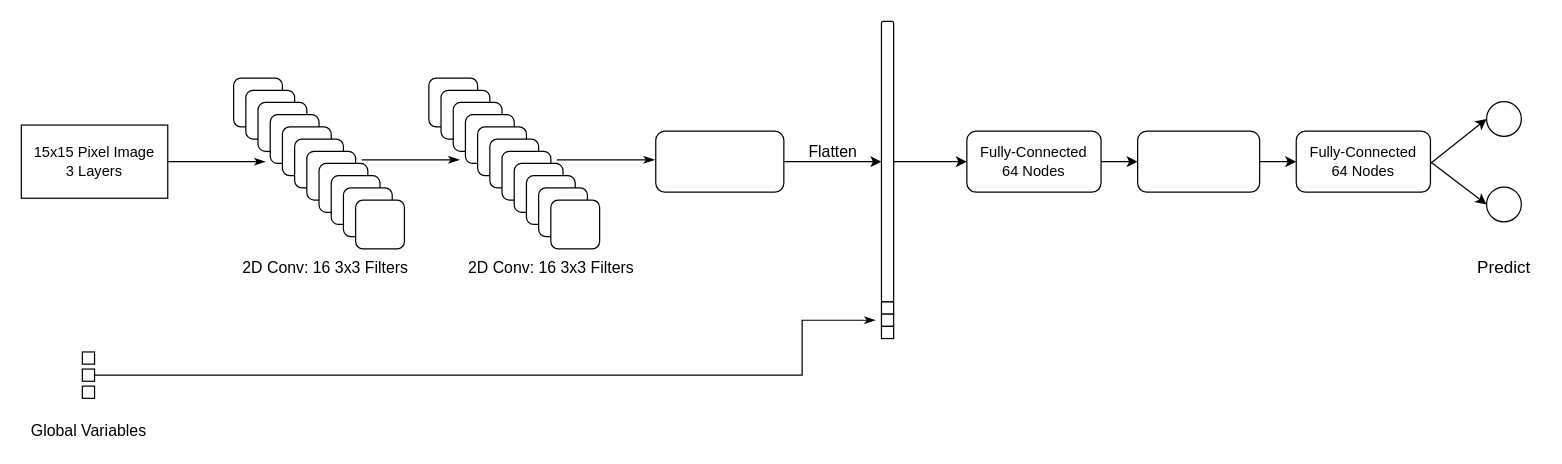
Image size: 1562x464. Some labels were removed from this diagram. Here are the shapes that lost their labels. From the top down, the box of each, then its label:
(655, 130, 784, 192): 2D Max Pooling 2x2 Filter
(1136, 130, 1260, 192): Batch Normalization
